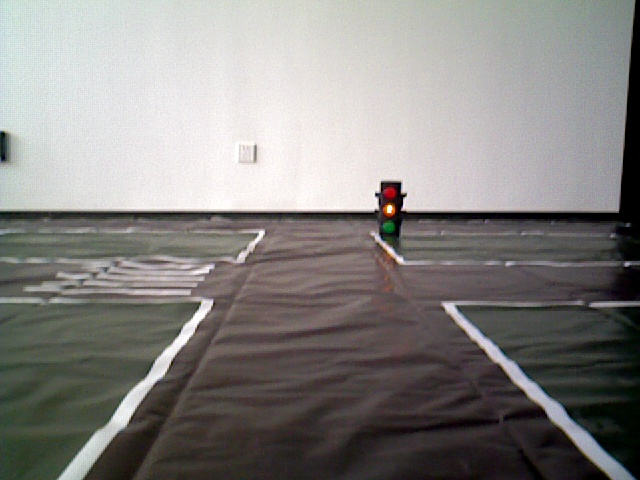yellow: (376, 175, 403, 240)
